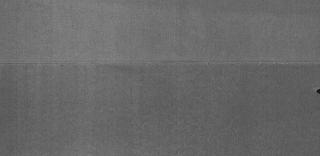punching hole: (312, 87, 320, 95)
silk spot: (12, 76, 306, 152)
welding line: (1, 58, 320, 72)
